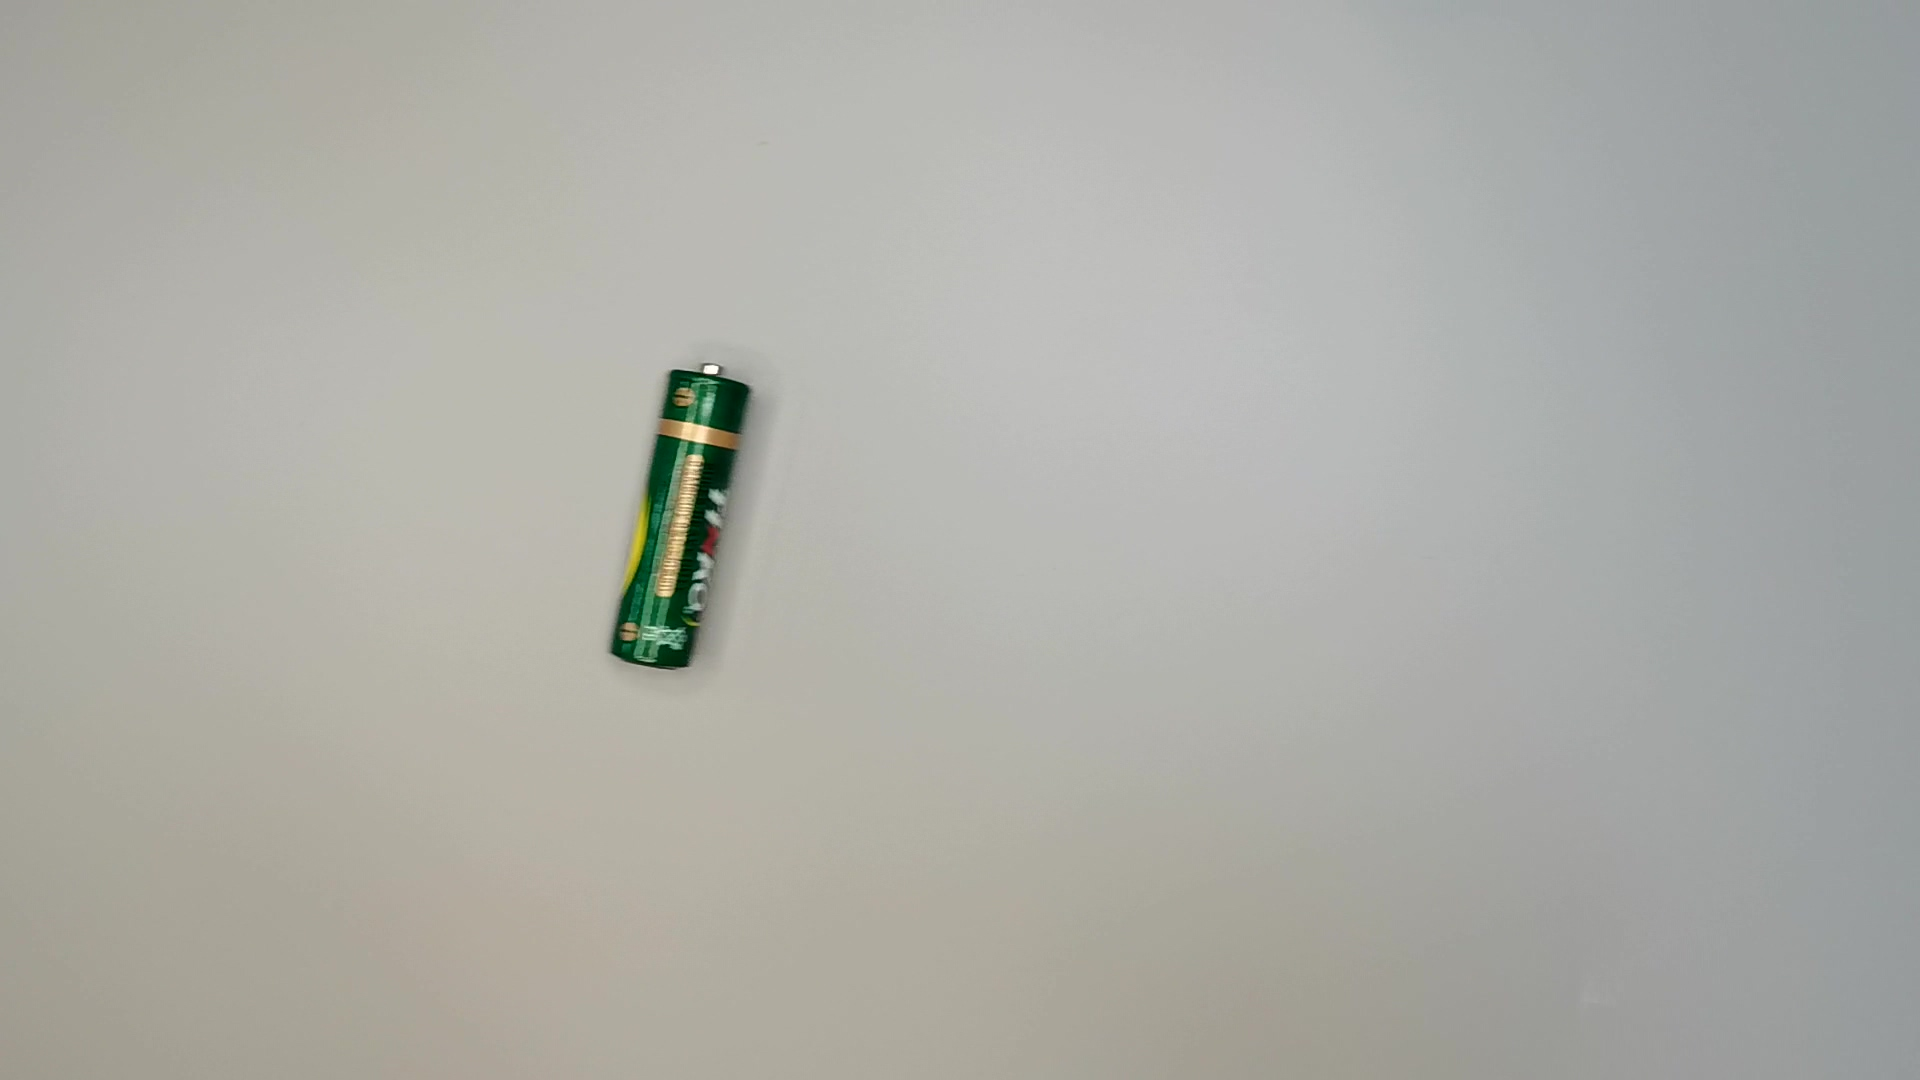battery: (597, 352, 754, 676)
